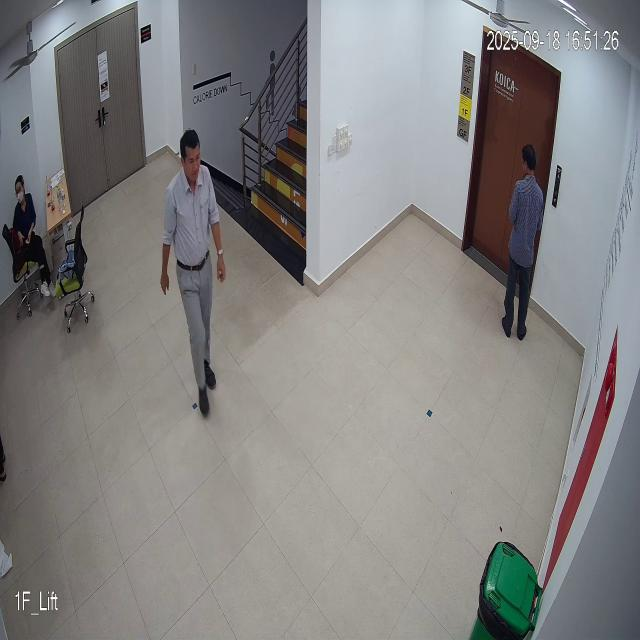face: (178, 124, 205, 185)
